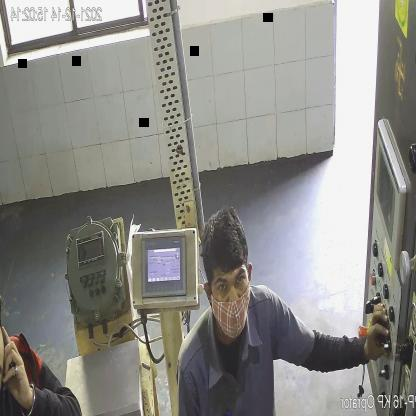no_goggles: (212, 269, 247, 303)
